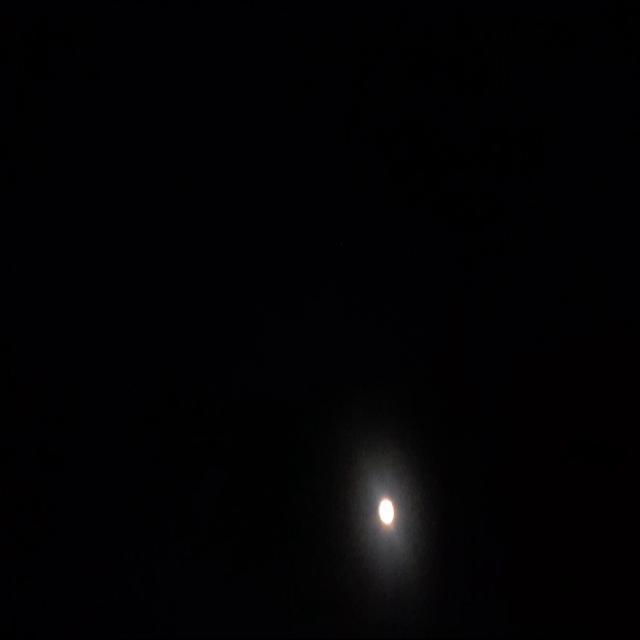moon: (377, 498, 400, 531)
